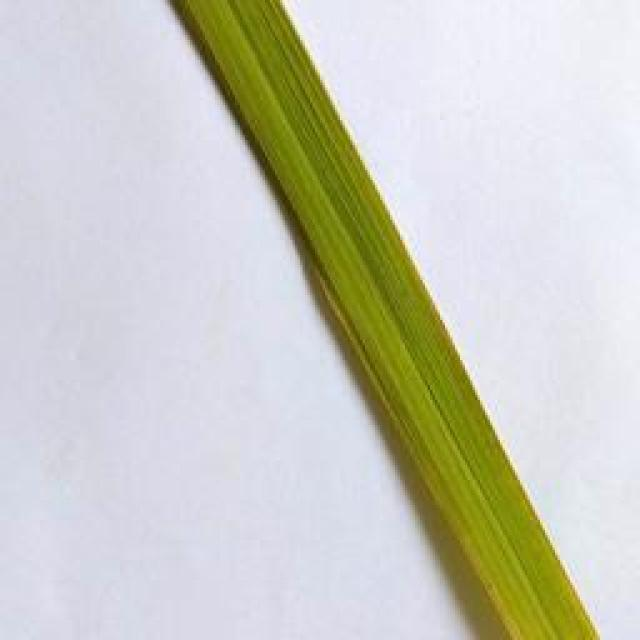Healthy-Plant: (213, 5, 595, 640)
